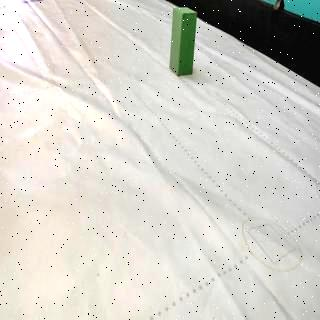greenbox: (167, 8, 199, 78)
